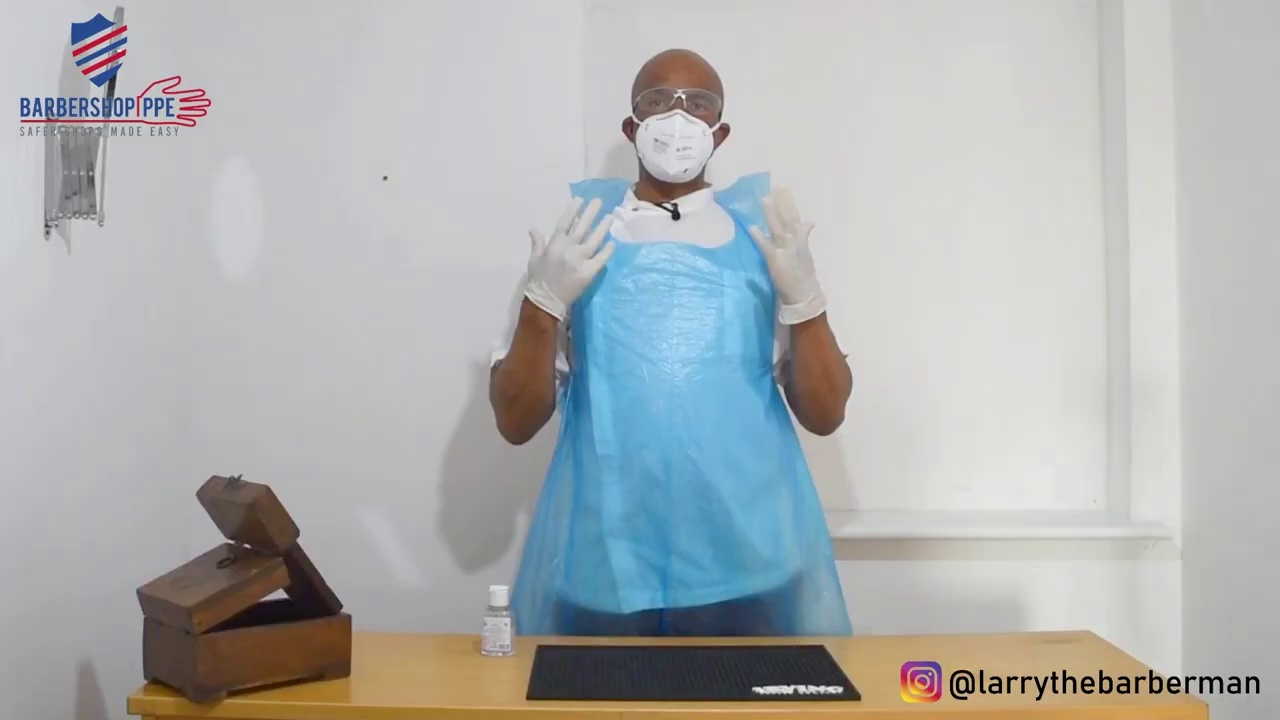Apron: (536, 173, 758, 644)
Glove: (521, 185, 620, 332), (745, 196, 834, 326)
Mask: (621, 119, 730, 190)
No_Hairnet: (616, 43, 726, 99)
